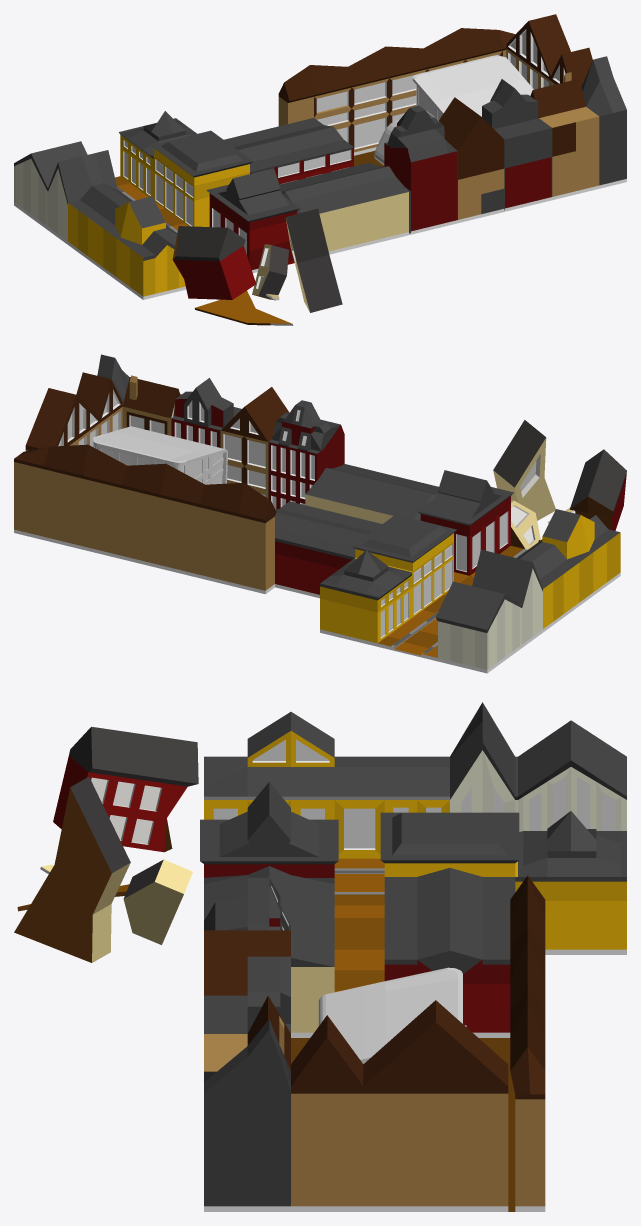
Rendered from Introduction_level.fbx.
The picture shows the model from 3 angles, top to bottom: view 1: azimuth 30°, elevation 25°; view 2: azimuth 150°, elevation 25°; view 3: azimuth 270°, elevation 25°; orthographic projection. The views are drawn at different scales.
Visible parts, largest first — view 1: Cube, Cube.003, Cube.002; view 2: Cube, Cube.003, Cube.002; view 3: Cube, Cube.003, Cube.002.
Boxes of the visible parts, x1,y1,x2,y2 form: Cube: (14, 14, 626, 299); Cube.003: (172, 208, 342, 325); Cube.002: (412, 55, 533, 120); Cube: (14, 354, 620, 673); Cube.003: (493, 420, 626, 549); Cube.002: (93, 426, 227, 484); Cube: (200, 702, 626, 1211); Cube.003: (14, 726, 198, 962); Cube.002: (318, 967, 462, 1063).
Size of the model in its own units: 9102 by 2404 by 6107.
